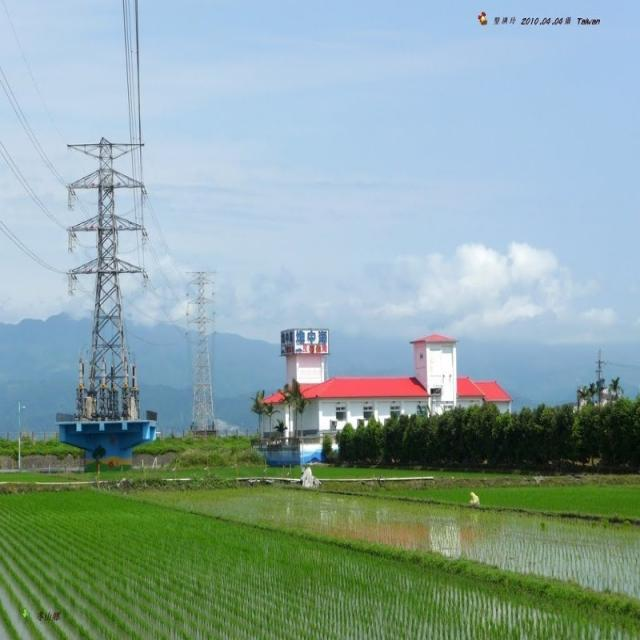non-critical vegetation: (50, 121, 156, 402), (180, 266, 229, 436)
